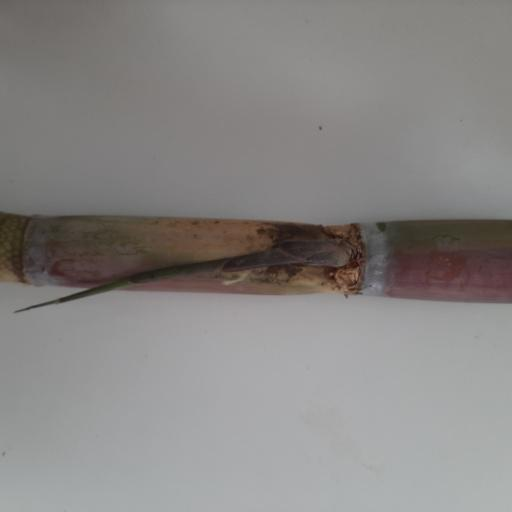Sprouted_Bud: (266, 237, 354, 269)
